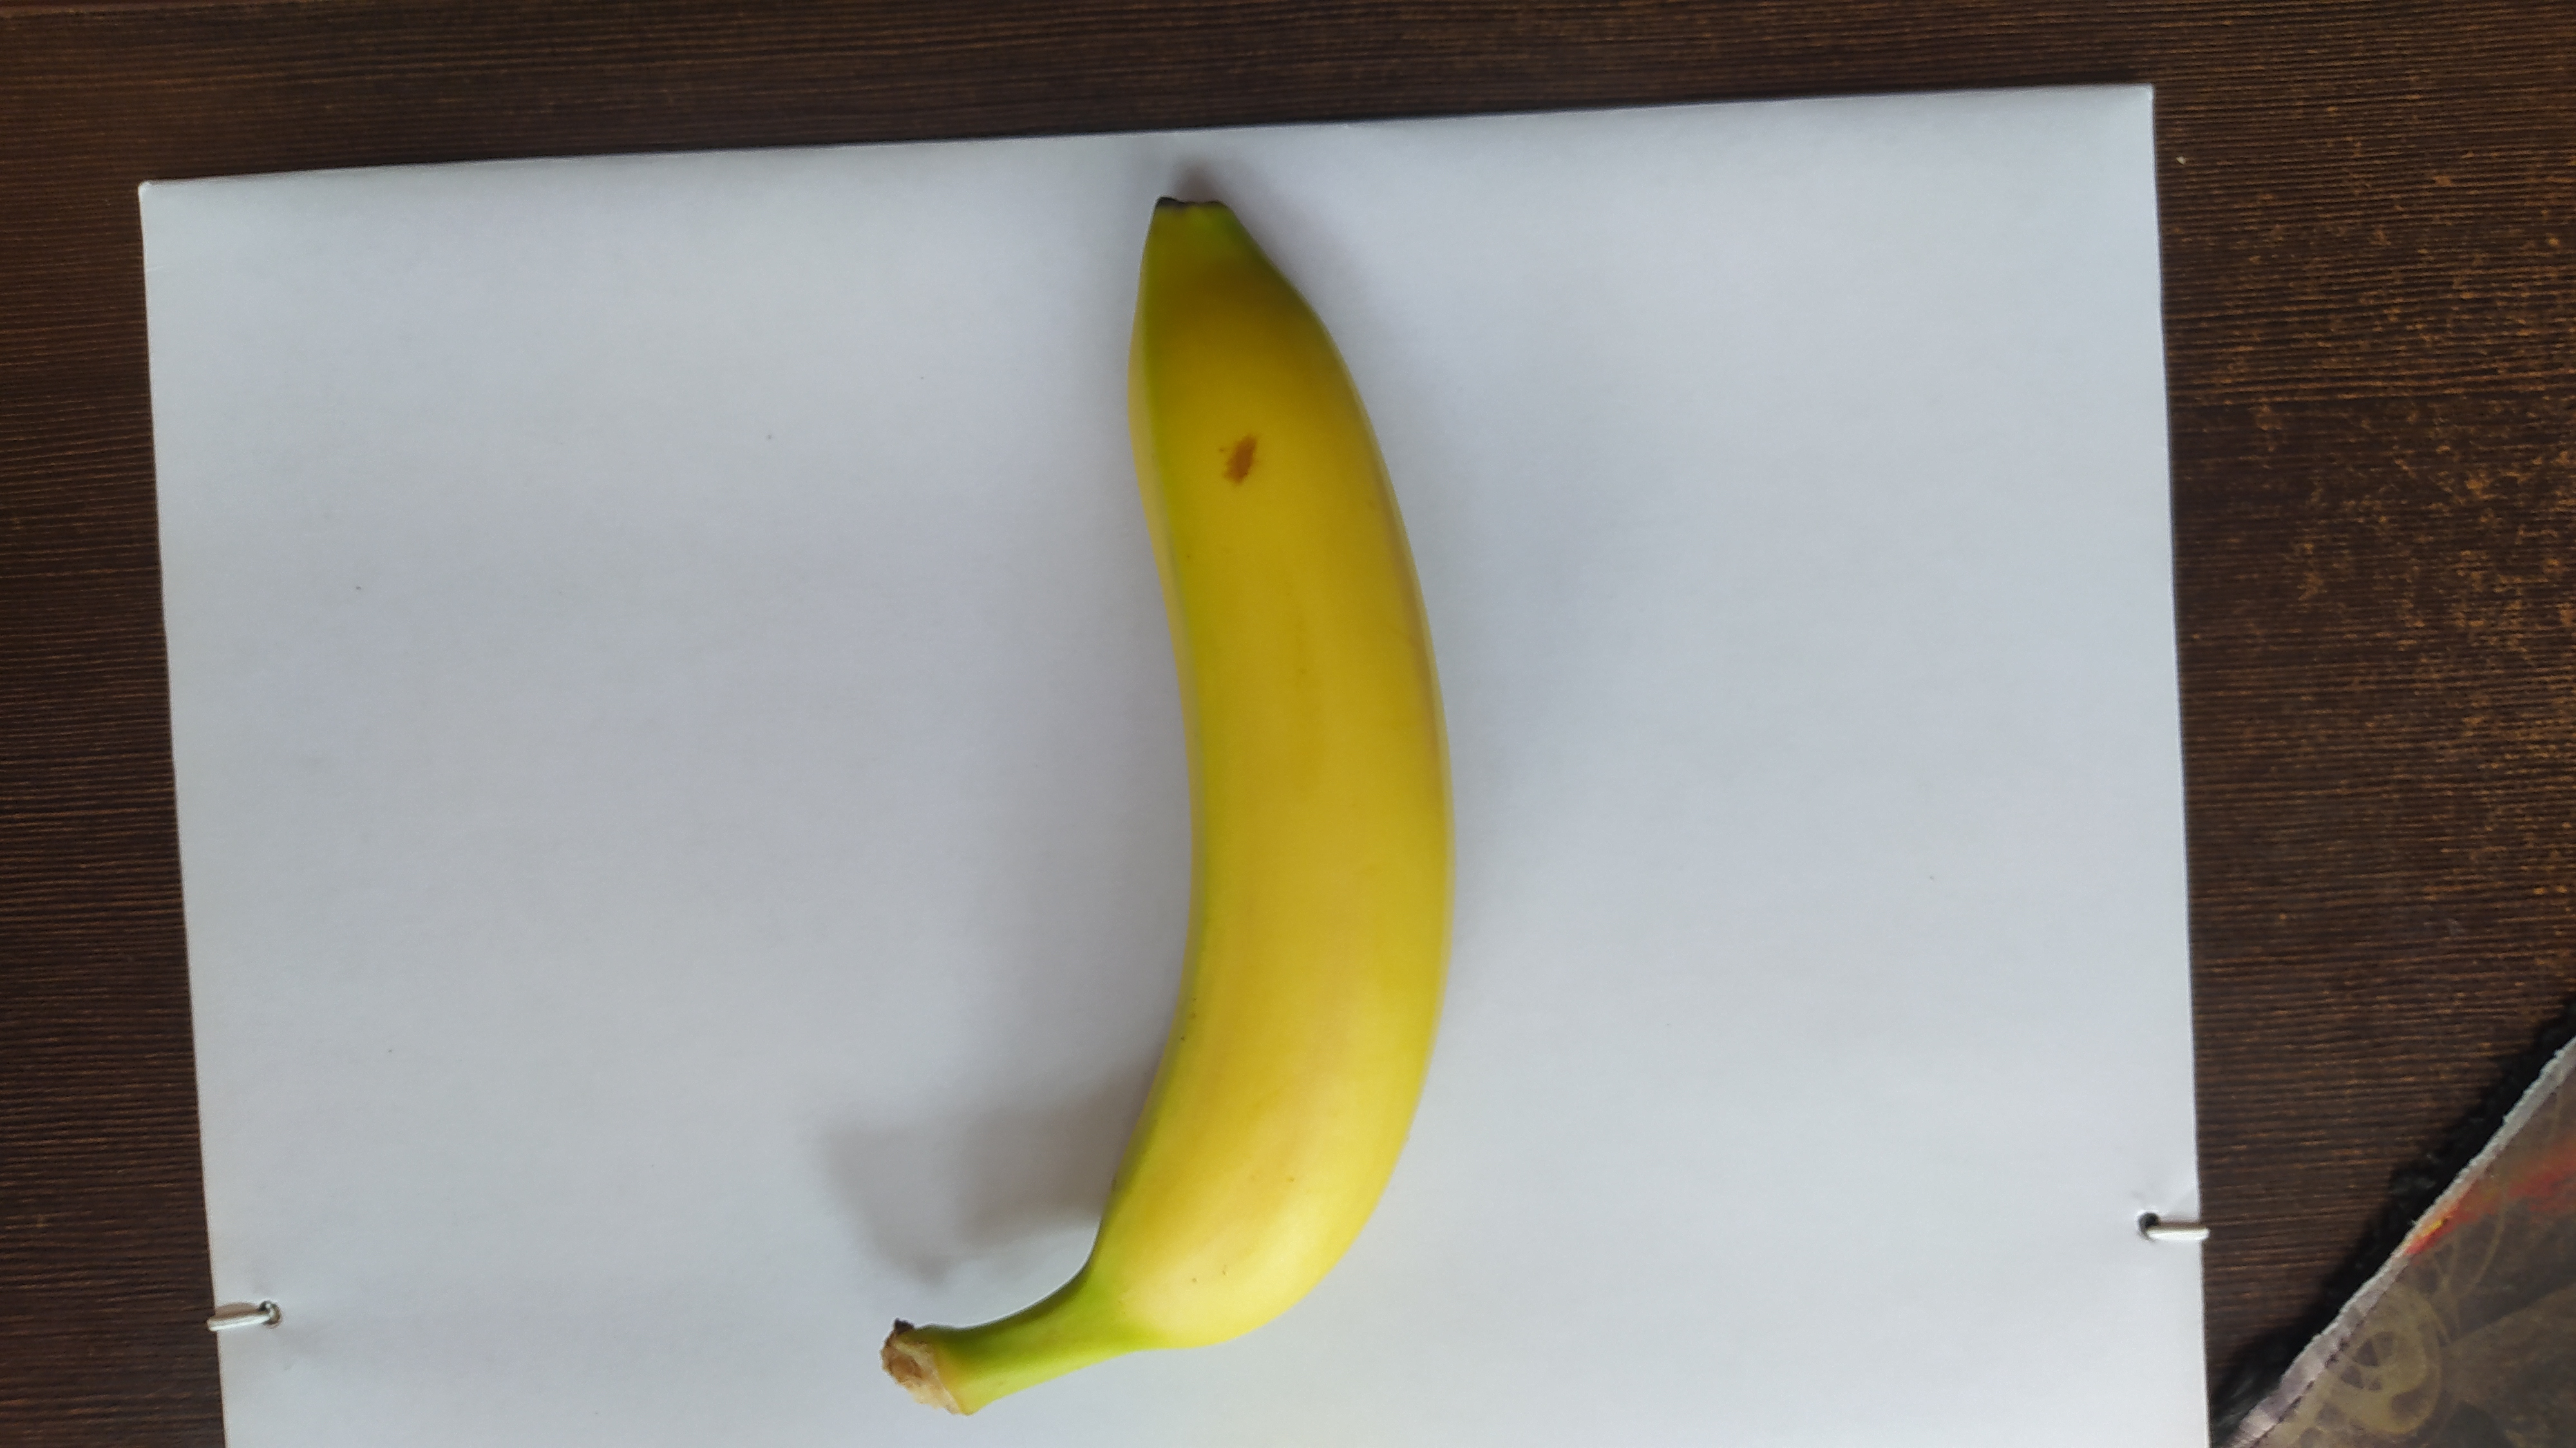banana: (878, 196, 1461, 1421)
